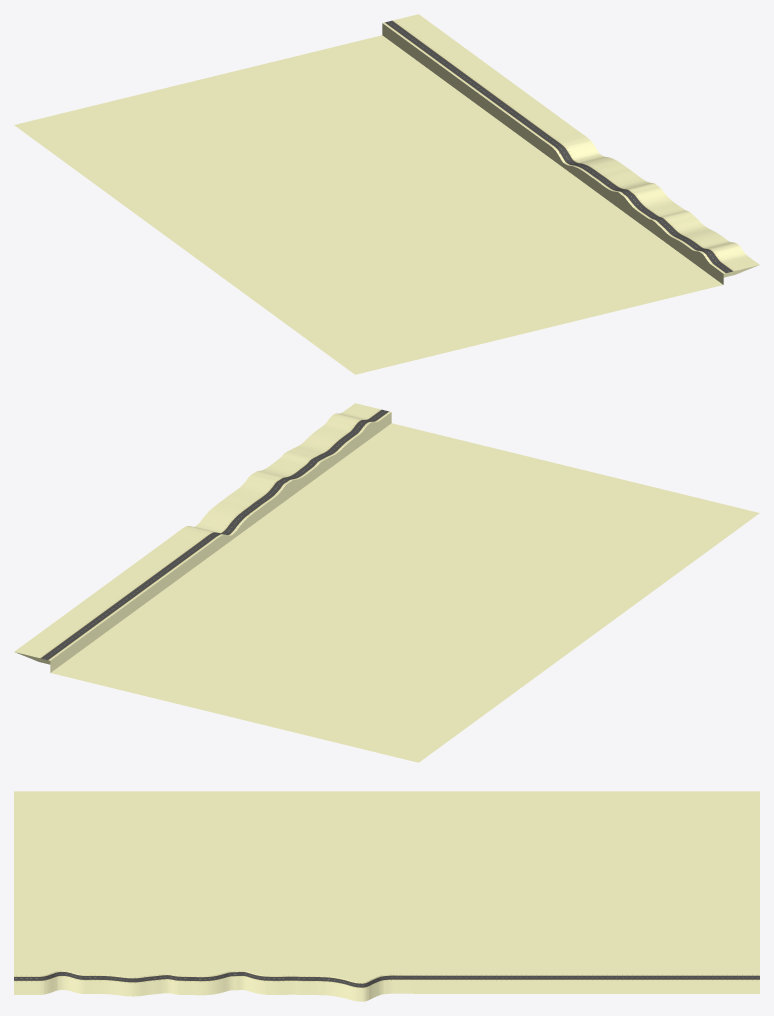
The model's file is envi3_1.fbx.
The picture shows the model from 3 angles, top to bottom: view 1: azimuth 30°, elevation 25°; view 2: azimuth 150°, elevation 25°; view 3: azimuth 270°, elevation 25°; orthographic projection. The views are drawn at different scales.
Parts seen in each view (by area): view 1: Cube, Cube.001; view 2: Cube, Cube.001; view 3: Cube, Cube.001.
Boxes of the visible parts, <box> form: Cube: <box>14,14,759,374</box>; Cube.001: <box>383,20,734,273</box>; Cube: <box>14,403,759,762</box>; Cube.001: <box>39,409,390,660</box>; Cube: <box>14,791,759,1001</box>; Cube.001: <box>14,971,759,988</box>.
Size of the model in its own units: 21442 by 796 by 31312.
Materials: 1 (1 with a texture image).
